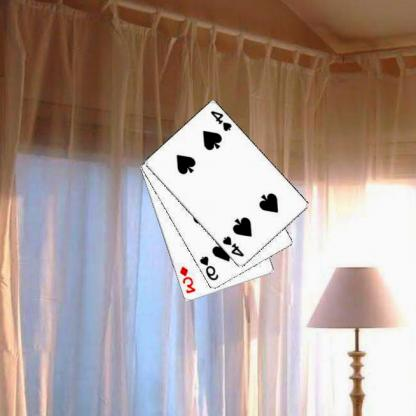3D: (179, 264, 198, 295)
4S: (210, 108, 235, 133), (222, 234, 247, 258)
6S: (198, 254, 221, 282)
